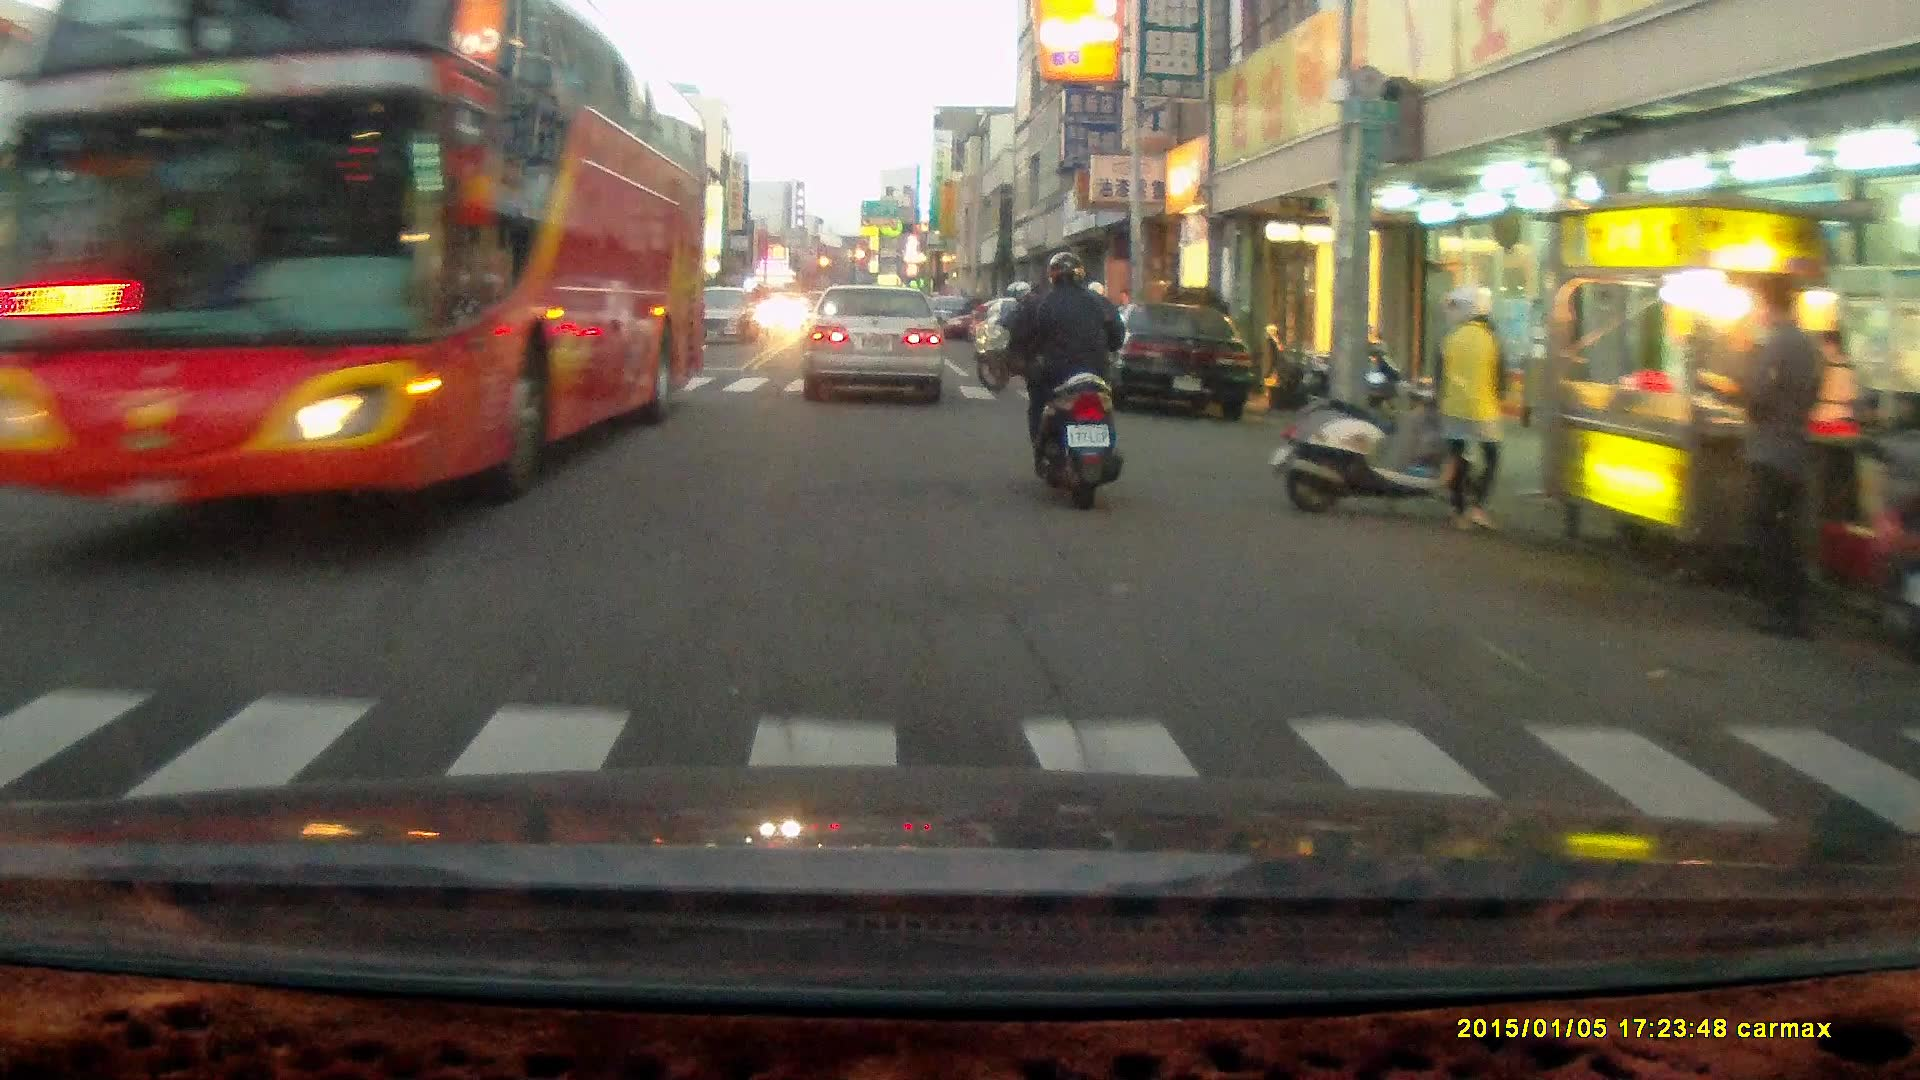pedestrian: (1715, 280, 1823, 639), (1426, 279, 1509, 535), (1802, 315, 1860, 510)
rider: (1000, 251, 1121, 512), (979, 276, 1050, 394)
vehicle: (1, 18, 710, 510), (1083, 299, 1264, 422), (802, 284, 947, 404), (703, 288, 756, 349)
